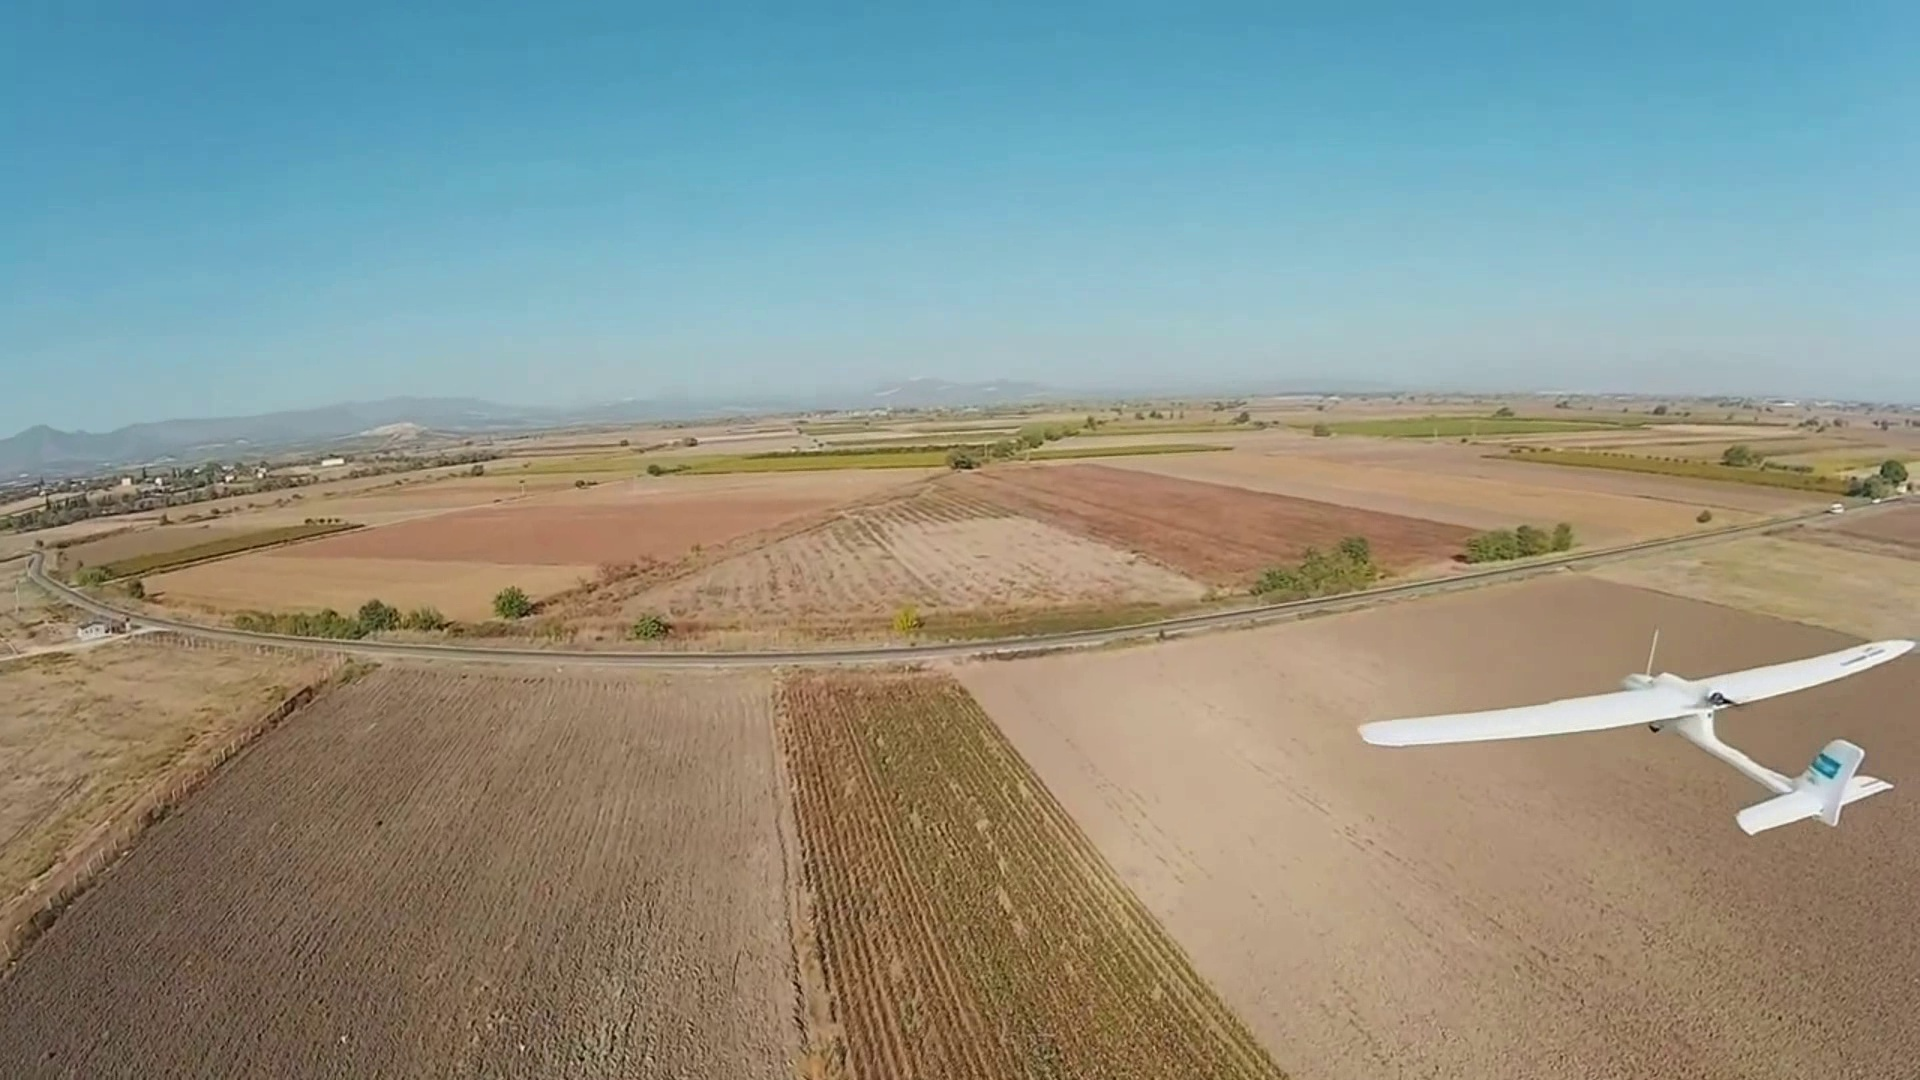airplane: (1352, 629, 1917, 831)
